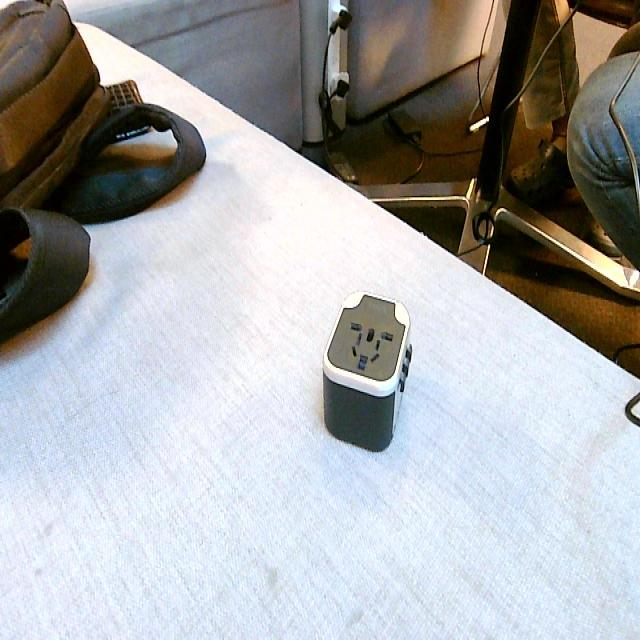adapter: (321, 289, 413, 452)
